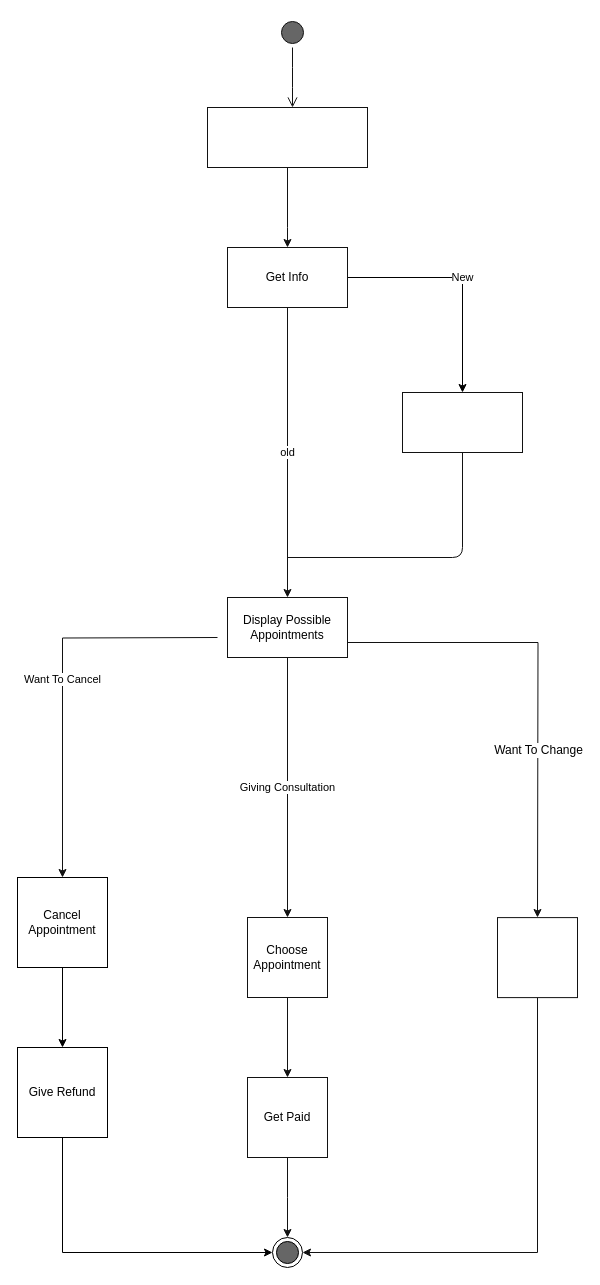
Image size: 600x1285. Some labels were removed from this diagram. The centre of each missing label's shape, as x and y in pixels:
"Make a New Record" goes at [462,422].
"Modify Appointment" goes at [537,957].
"Psychologist Enters The Site" goes at [287,137].
